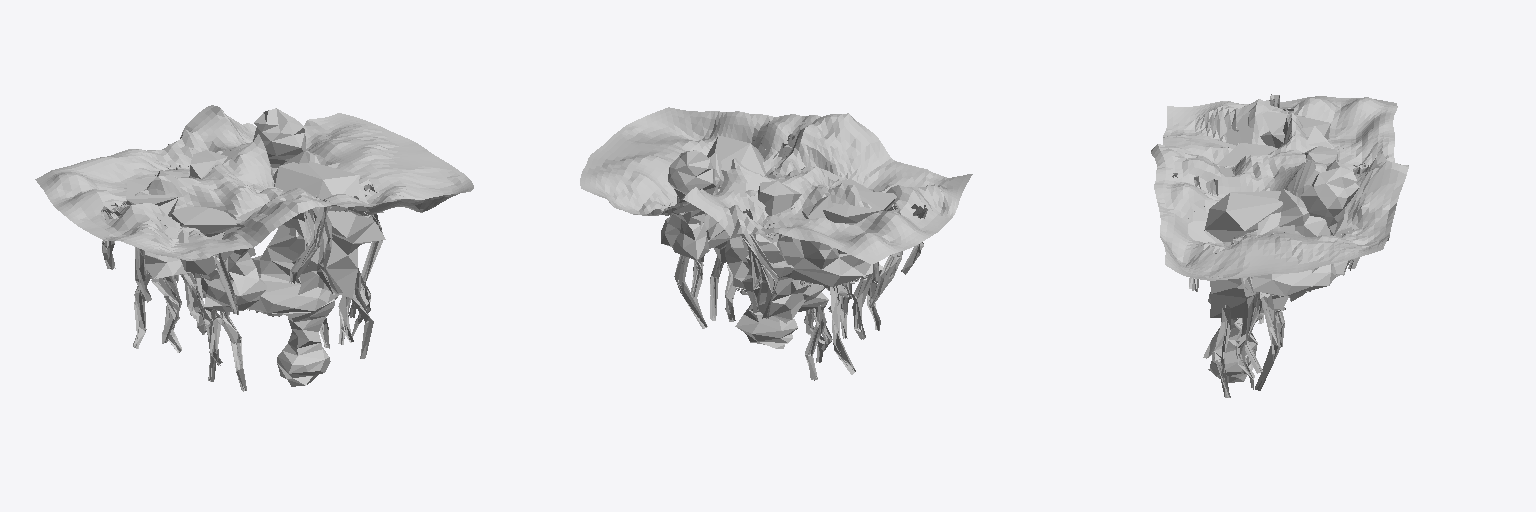
File: model_phy.obj
The picture shows the model from 3 angles: view 1: azimuth 30°, elevation 25°; view 2: azimuth 150°, elevation 25°; view 3: azimuth 270°, elevation 25°; orthographic projection.
Parts seen in each view (by area): view 1: Plane049, Object1035, maczuga_heraklesa_LOD1_LOD1_LOD1_LOD1_LOD1, north_rock_LOD1_LOD1_LOD1_LOD009, pilar_rock005, pilar_rock006, pilar_rock004, north_rock_LOD1_LOD1_LOD1_LOD008, north_rock_LOD1_LOD1_LOD1_LOD007, Object1040, north_rock_LOD1_LOD1_LOD1_LOD002, maczuga_heraklesa_LOD1_LOD1_LOD1_LOD1_LOD002; view 2: Plane049, Object1035, north_rock_LOD1_LOD1_LOD1_LOD002, pilar_rock004, north_rock_LOD1_LOD1_LOD1_LOD003, maczuga_heraklesa_LOD1_LOD1_LOD1_LOD1_LOD002, pilar_rock005, maczuga_heraklesa_LOD1_LOD1_LOD1_LOD1_LOD1, north_rock_LOD1_LOD1_LOD1_LOD004, north_rock_LOD1_LOD1_LOD1_LOD007, Object1040, north_rock_LOD1_LOD1_LOD1_LOD009; view 3: Plane049, Object1035, maczuga_heraklesa_LOD1_LOD1_LOD1_LOD1_LOD1, north_rock_LOD1_LOD1_LOD1_LOD004, pilar_rock004, Object1040, north_rock_LOD1_LOD1_LOD1_LOD007, pilar_rock005, north_rock_LOD1_LOD1_LOD1_LOD008.
Part boxes in pixels (x1,y1,x2,y2): Plane049: (35,105,473,260); Object1035: (101,149,383,391); maczuga_heraklesa_LOD1_LOD1_LOD1_LOD1_LOD1: (273,161,385,298); north_rock_LOD1_LOD1_LOD1_LOD009: (251,221,339,312); pilar_rock005: (277,299,334,386); pilar_rock006: (201,248,266,311); pilar_rock004: (253,108,305,167); north_rock_LOD1_LOD1_LOD1_LOD008: (171,206,262,274); north_rock_LOD1_LOD1_LOD1_LOD007: (126,178,178,216); Object1040: (152,139,383,242); north_rock_LOD1_LOD1_LOD1_LOD002: (144,170,190,278); maczuga_heraklesa_LOD1_LOD1_LOD1_LOD1_LOD002: (189,150,255,256); Plane049: (580,107,972,264); Object1035: (670,122,927,380); north_rock_LOD1_LOD1_LOD1_LOD002: (777,196,882,286); pilar_rock004: (668,150,715,260); north_rock_LOD1_LOD1_LOD1_LOD003: (742,255,811,323); maczuga_heraklesa_LOD1_LOD1_LOD1_LOD1_LOD002: (742,181,801,263); pilar_rock005: (735,303,797,348); maczuga_heraklesa_LOD1_LOD1_LOD1_LOD1_LOD1: (707,135,765,263); north_rock_LOD1_LOD1_LOD1_LOD004: (661,153,729,248); north_rock_LOD1_LOD1_LOD1_LOD007: (823,191,896,253); Object1040: (661,121,857,215); north_rock_LOD1_LOD1_LOD1_LOD009: (725,236,749,288); Plane049: (1151,96,1408,280); Object1035: (1172,94,1367,397); maczuga_heraklesa_LOD1_LOD1_LOD1_LOD1_LOD1: (1204,191,1290,317); north_rock_LOD1_LOD1_LOD1_LOD004: (1236,189,1336,295); pilar_rock004: (1300,160,1359,277); Object1040: (1178,111,1365,245); north_rock_LOD1_LOD1_LOD1_LOD007: (1260,111,1330,147); pilar_rock005: (1208,318,1253,382); north_rock_LOD1_LOD1_LOD1_LOD008: (1218,143,1277,176).
Bounding box in the file's own units: 86.6 × 53.75 × 54.78.